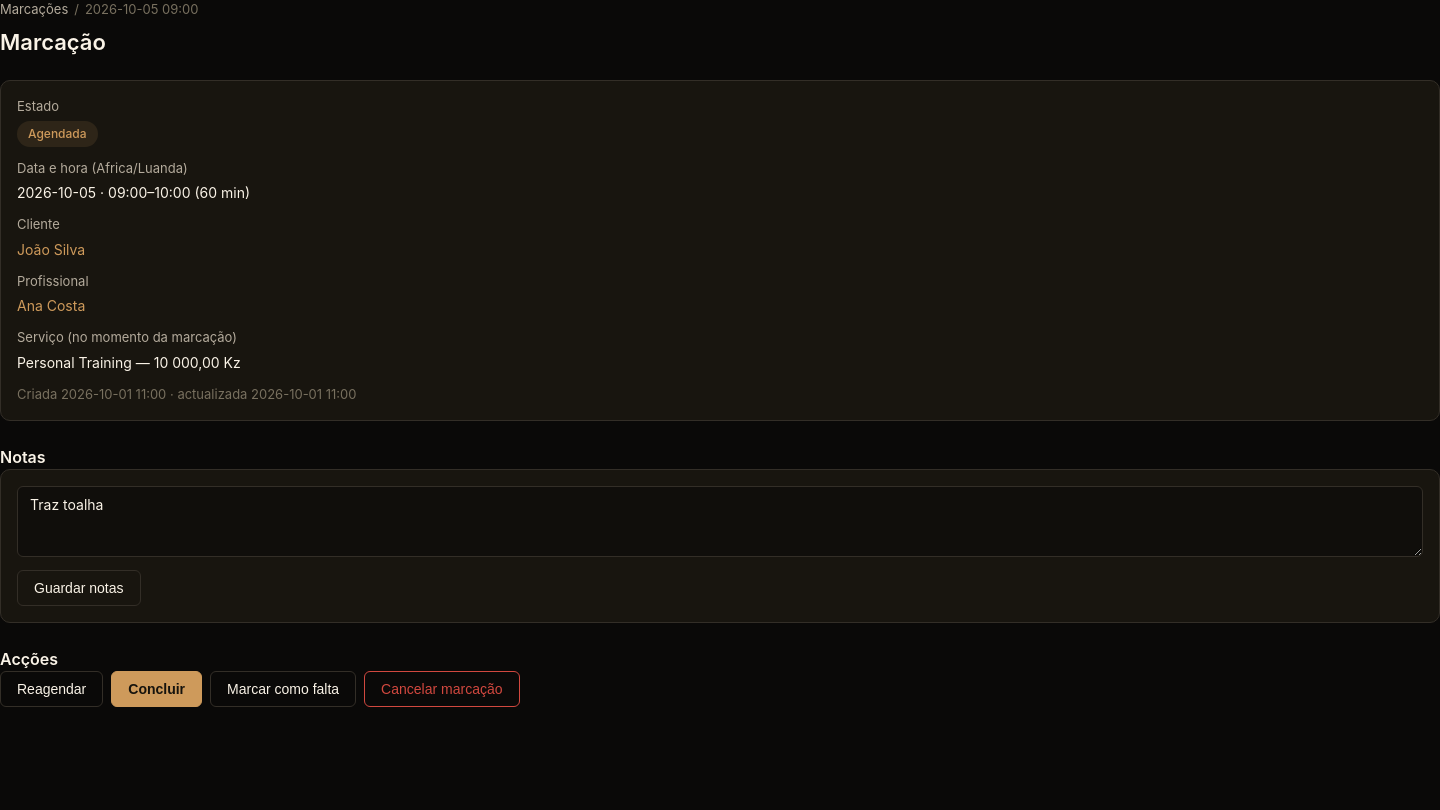
Test: Appointment detail › cancel: sends the optional reason, then renders the SERVER's canceled state
Click the button "Cancelar marcação" at point(442, 689), box [364,671,520,707]
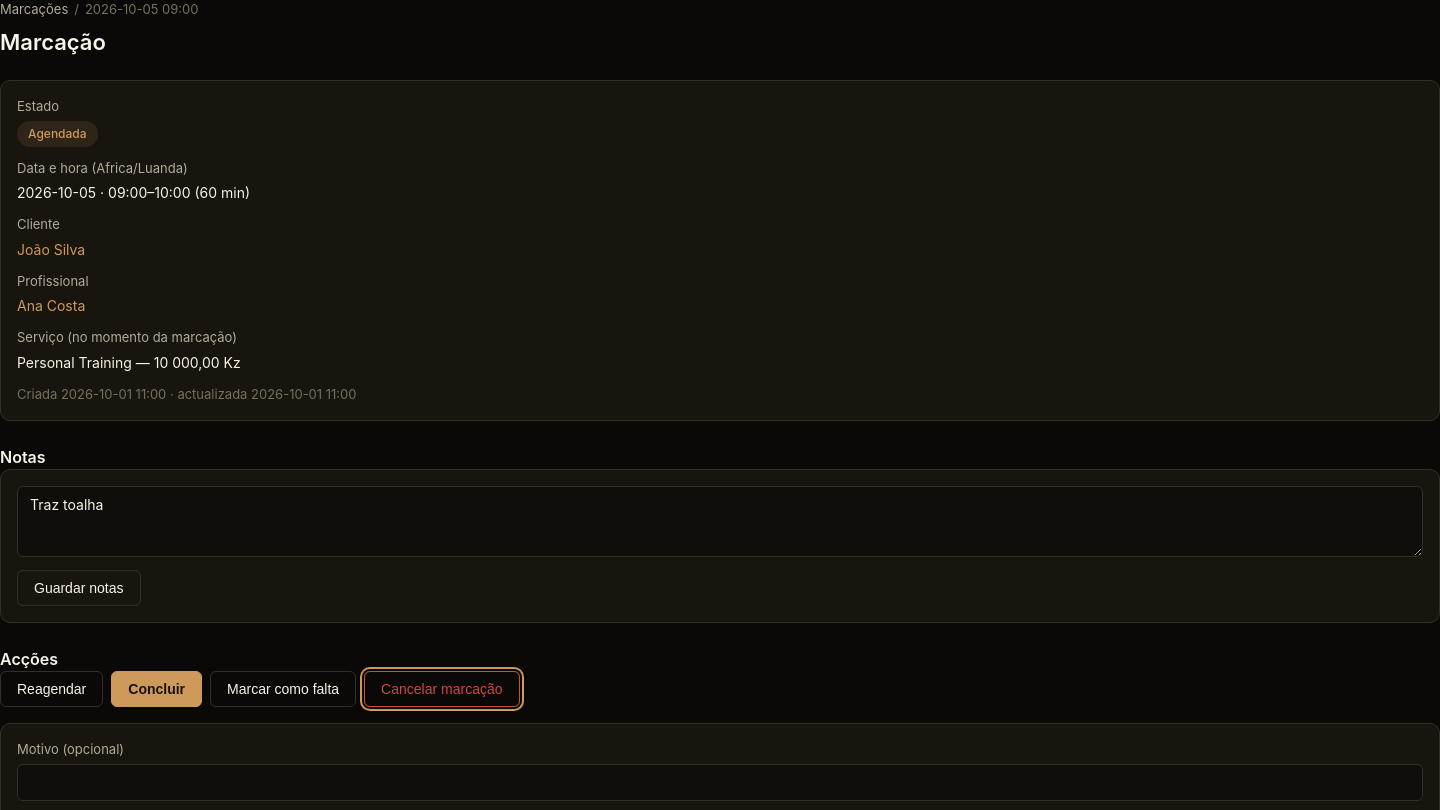
Type "Doente" into the field labelled "Motivo (opcional)" at point(720, 782), box [17,764,1423,801]
(page scrolled)
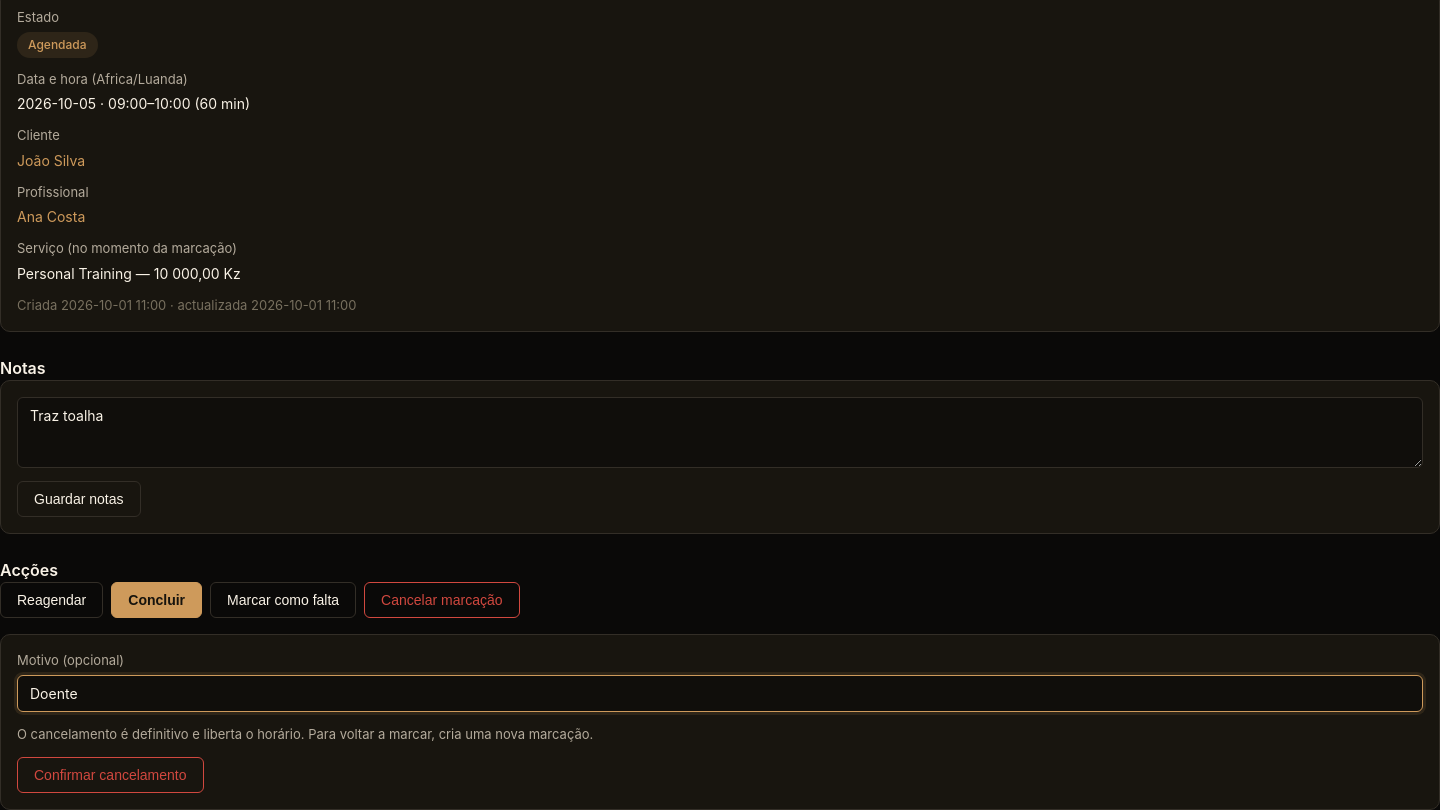
Click the button "Confirmar cancelamento" at point(110, 775), box [17,757,204,793]
(page scrolled)
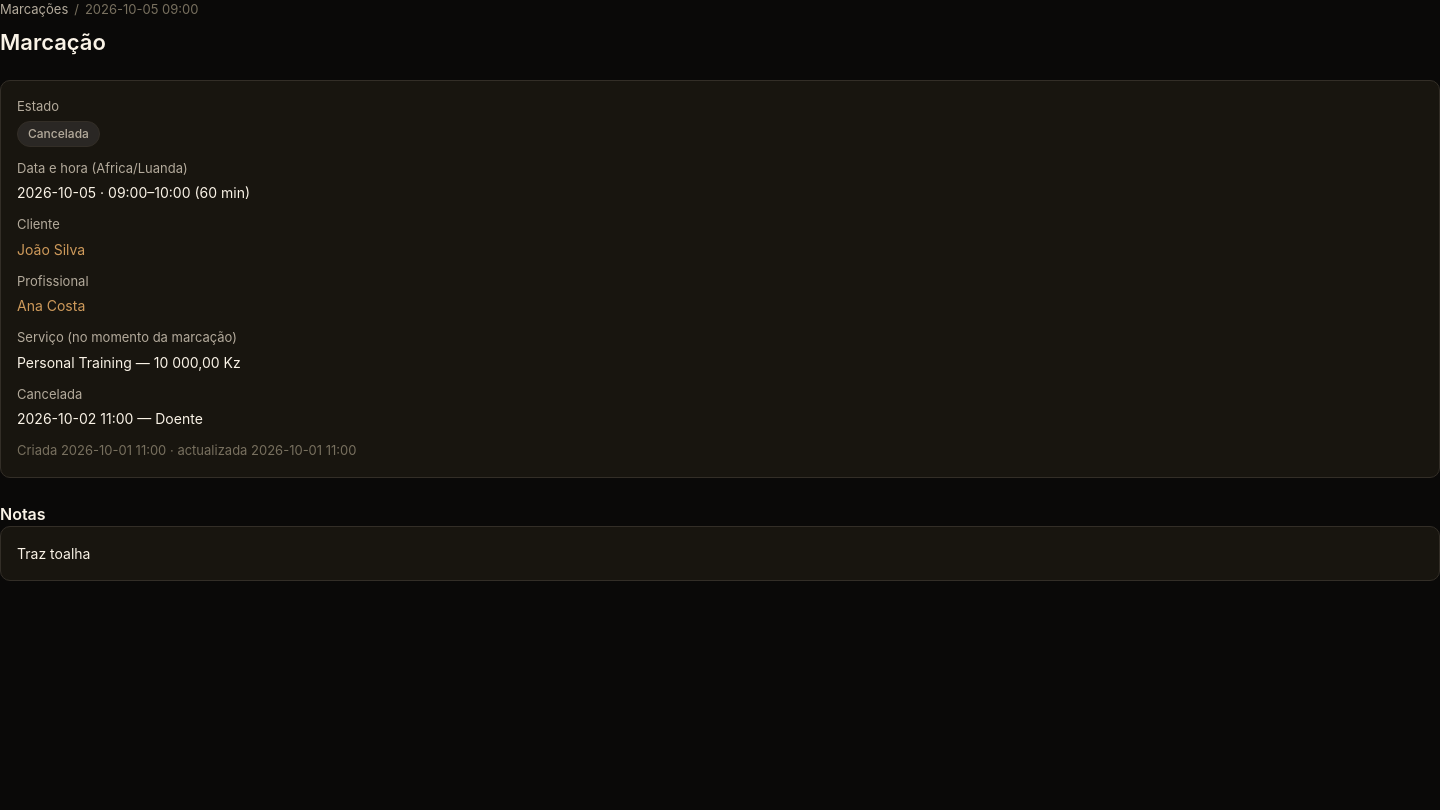
Result: the text "Cancelada" is shown at [17,121,100,147]
Result: the button "Reagendar" is gone
